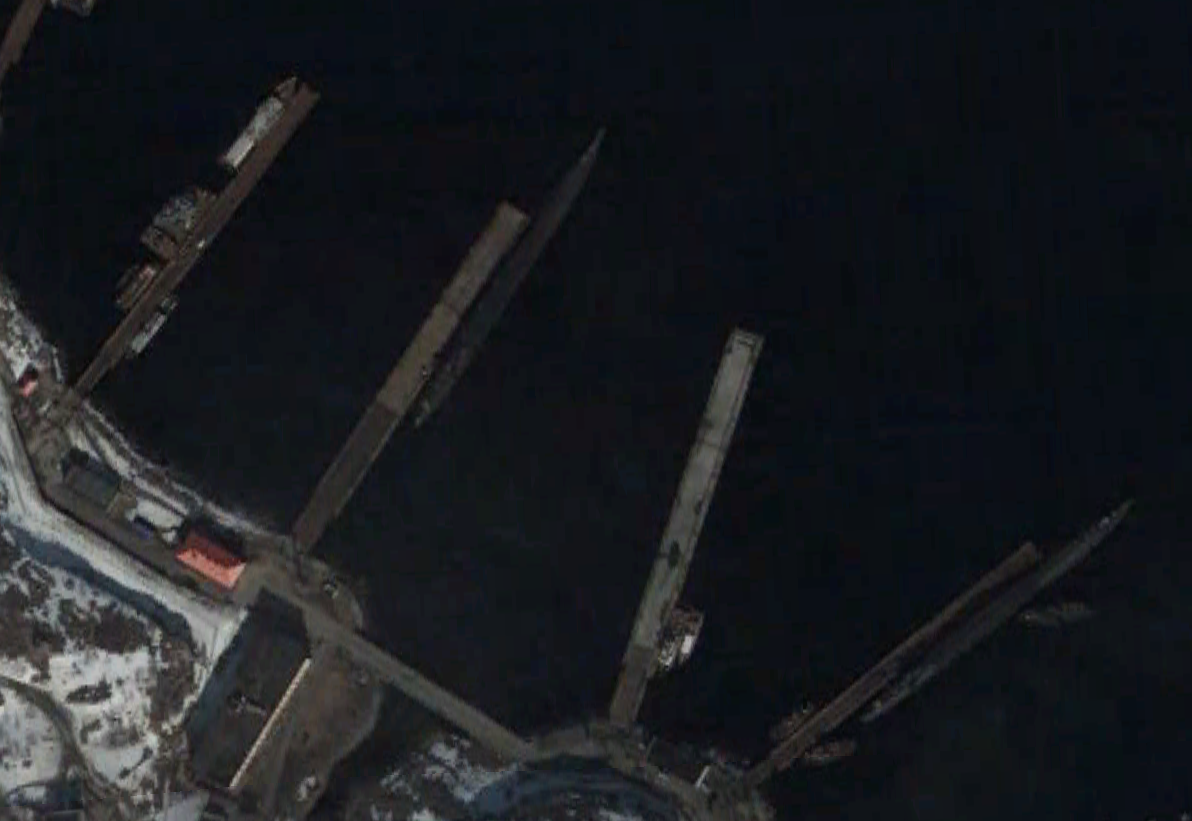merchant ship: (217, 75, 298, 175), (1015, 600, 1095, 629), (677, 615, 704, 670), (806, 738, 860, 763)
submarine: (859, 482, 1147, 725), (409, 119, 610, 425)
